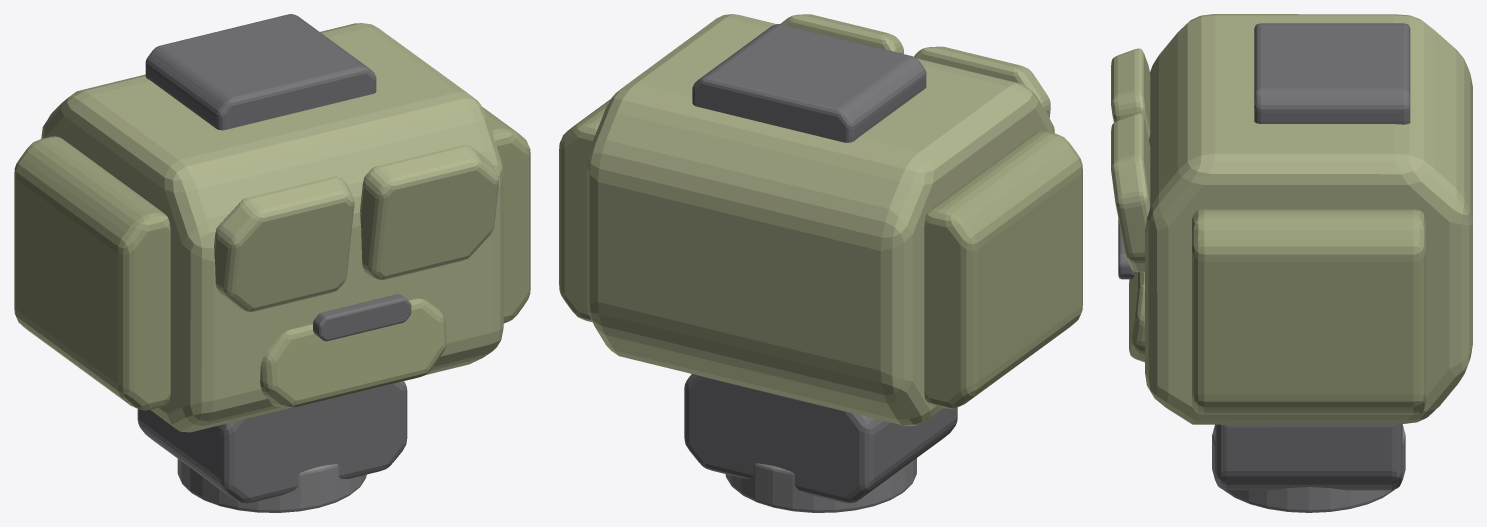
Rendered from recon_sheet_core.glb.
3 renders of one model, left to right at view 1: azimuth 30°, elevation 25°; view 2: azimuth 150°, elevation 25°; view 3: azimuth 270°, elevation 25°, orthographic.
Visible parts, largest first — view 1: Chest, ChestSide1, Waist, Collar, ChestPlate1, ChestPlate, ChestLower, ChestSide, WaistRing, Vent; view 2: Chest, ChestSide1, Waist, Collar, ChestSide, WaistRing, ChestPlate1, ChestPlate; view 3: Chest, ChestSide, Collar, Waist, ChestPlate, WaistRing, ChestPlate1, ChestLower, Vent.
Part boxes in pixels (x1,y1,x2,y2): Chest: (41,23,503,432); ChestSide1: (14,136,170,410); Waist: (137,381,407,503); Collar: (145,14,376,130); ChestPlate1: (214,176,354,311); ChestPlate: (360,145,498,279); ChestLower: (260,298,446,407); ChestSide: (482,107,530,323); WaistRing: (177,459,366,512); Vent: (313,294,411,341); Chest: (586,14,1054,426); ChestSide1: (924,131,1082,408); Waist: (684,374,957,503); Collar: (692,24,926,142); ChestSide: (559,99,610,322); WaistRing: (725,458,916,512); ChestPlate1: (914,46,1050,117); ChestPlate: (780,14,903,53); Chest: (1145,14,1472,424); ChestSide: (1192,209,1425,414); Collar: (1254,23,1410,124); Waist: (1215,424,1402,490); ChestPlate: (1111,113,1150,272); WaistRing: (1212,425,1405,512); ChestPlate1: (1111,48,1150,138); ChestLower: (1129,271,1144,362); Vent: (1118,219,1133,279).
Size of the model in its own units: 3.1 by 2.95 by 2.32.
